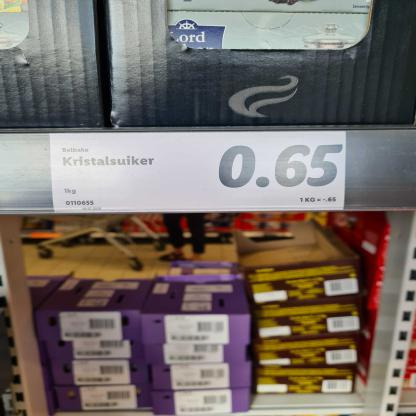prtg: (50, 132, 347, 213)
